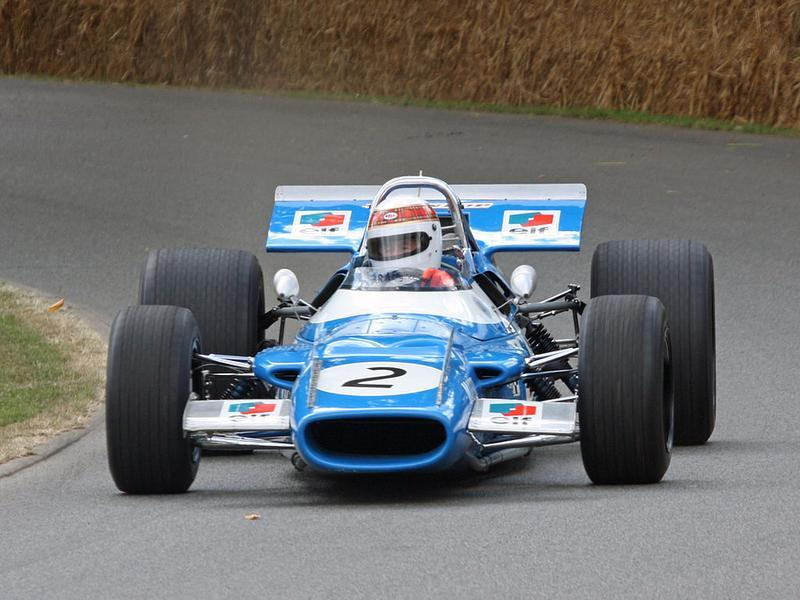racecar: (114, 170, 717, 490)
